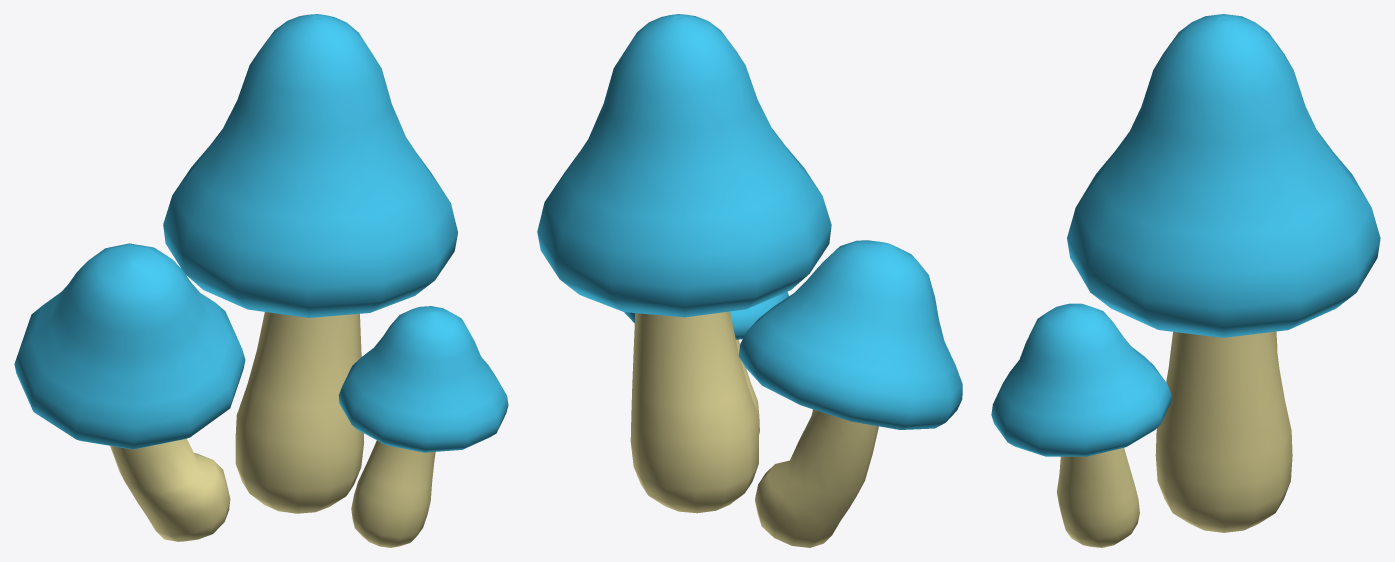
The model's file is Pilze1.fbx.
3 renders of one model, left to right at view 1: azimuth 30°, elevation 25°; view 2: azimuth 150°, elevation 25°; view 3: azimuth 270°, elevation 25°, orthographic. The views are drawn at different scales.
Visible parts, largest first — view 1: Pilz1, Pilz2, Pilzstiel1, Pilz2.001, Pilzstiel2, Pilzstiel1.001; view 2: Pilz1, Pilz2, Pilzstiel1, Pilzstiel2, Pilz2.001; view 3: Pilz1, Pilzstiel1, Pilz2.001, Pilzstiel1.001.
Part boxes in pixels (x1=…): Pilz1: x1=163, y1=14, x2=457, y2=317; Pilz2: x1=14, y1=243, x2=245, y2=449; Pilzstiel1: x1=235, y1=312, x2=364, y2=513; Pilz2.001: x1=338, y1=306, x2=508, y2=452; Pilzstiel2: x1=110, y1=438, x2=230, y2=541; Pilzstiel1.001: x1=351, y1=440, x2=435, y2=547; Pilz1: x1=537, y1=14, x2=831, y2=317; Pilz2: x1=738, y1=240, x2=962, y2=429; Pilzstiel1: x1=630, y1=311, x2=758, y2=513; Pilzstiel2: x1=755, y1=409, x2=878, y2=547; Pilz2.001: x1=624, y1=291, x2=788, y2=339; Pilz1: x1=1067, y1=14, x2=1380, y2=337; Pilzstiel1: x1=1155, y1=331, x2=1292, y2=532; Pilz2.001: x1=991, y1=303, x2=1171, y2=456; Pilzstiel1.001: x1=1057, y1=448, x2=1139, y2=547.
Size of the model in its own units: 31.91 by 37.37 by 25.27.
